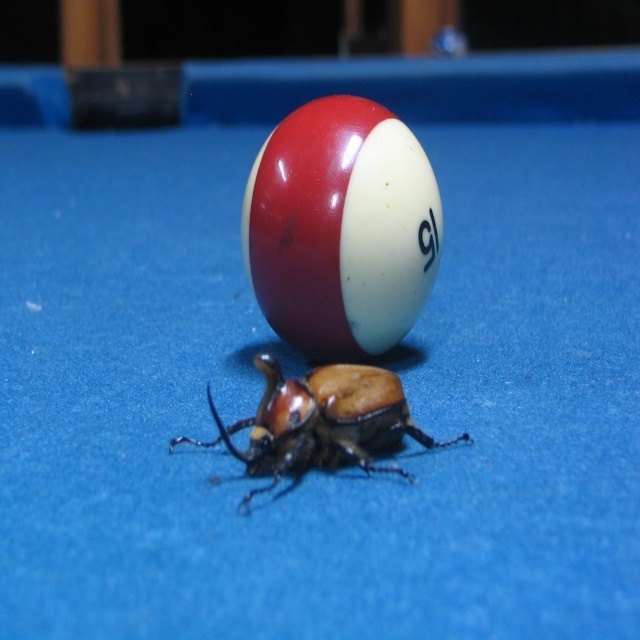Ladybug: (166, 368, 482, 522)
